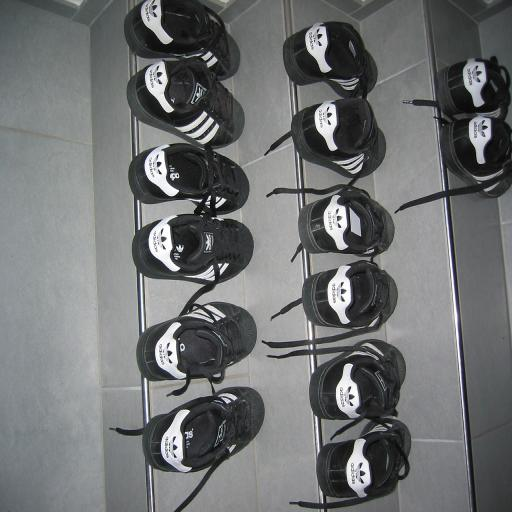shoe: (142, 386, 264, 510), (262, 260, 398, 359), (395, 115, 512, 213), (137, 301, 257, 394), (126, 58, 244, 148), (293, 418, 411, 508), (124, 0, 240, 79), (128, 143, 250, 216), (132, 214, 254, 285), (309, 340, 406, 420), (291, 98, 386, 179), (283, 21, 377, 98), (298, 187, 394, 256), (302, 260, 398, 329), (440, 115, 512, 198), (435, 58, 511, 120)
